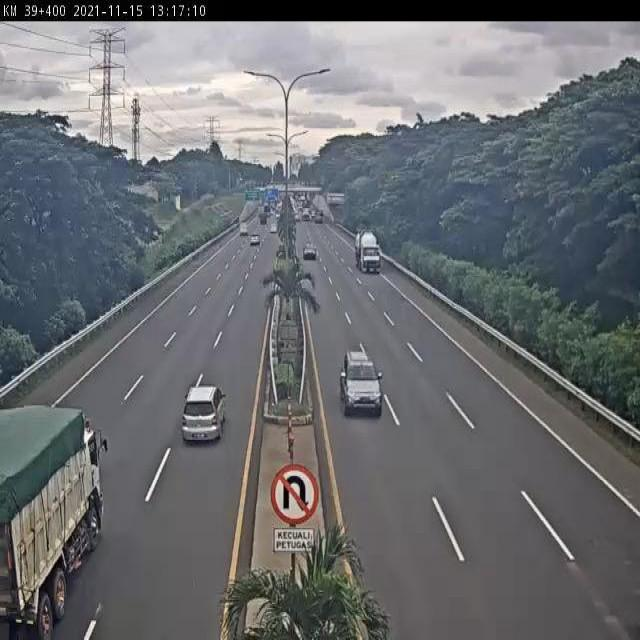car: (178, 380, 229, 448), (341, 348, 382, 416)
truck-l-: (0, 408, 103, 640)
truck-xl-: (355, 227, 384, 274)
